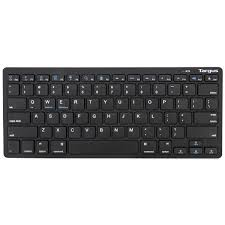keyboard: (2, 64, 223, 160)
